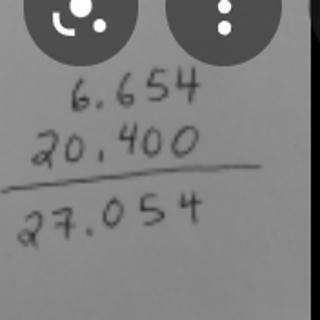.: (94, 147, 111, 164), (80, 224, 98, 239), (91, 98, 106, 111)
0: (170, 125, 199, 158), (101, 196, 126, 229), (141, 125, 162, 159), (66, 133, 86, 162)
2: (32, 129, 59, 163), (21, 212, 42, 246)
4: (176, 65, 200, 105), (180, 189, 204, 224), (120, 121, 139, 155)
5: (139, 189, 166, 228), (146, 67, 169, 103)
6: (69, 77, 92, 112), (117, 72, 136, 106)
7: (54, 205, 78, 241)
